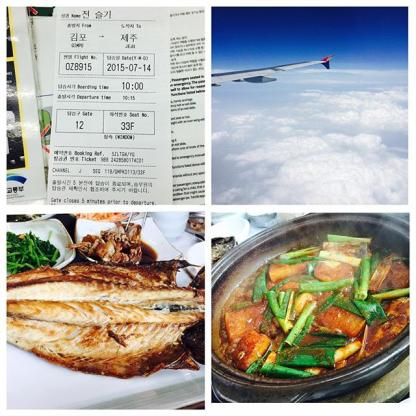Peixe: (0, 244, 215, 390)
